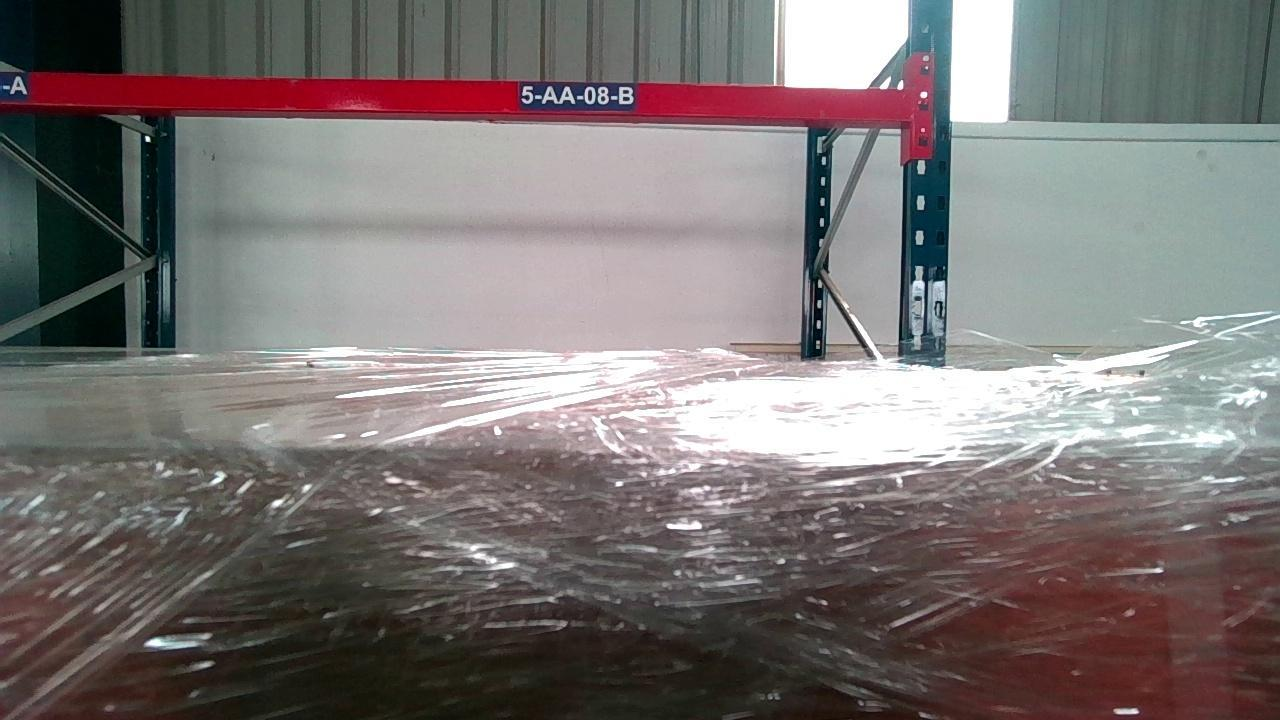h_rack: (0, 74, 912, 124)
